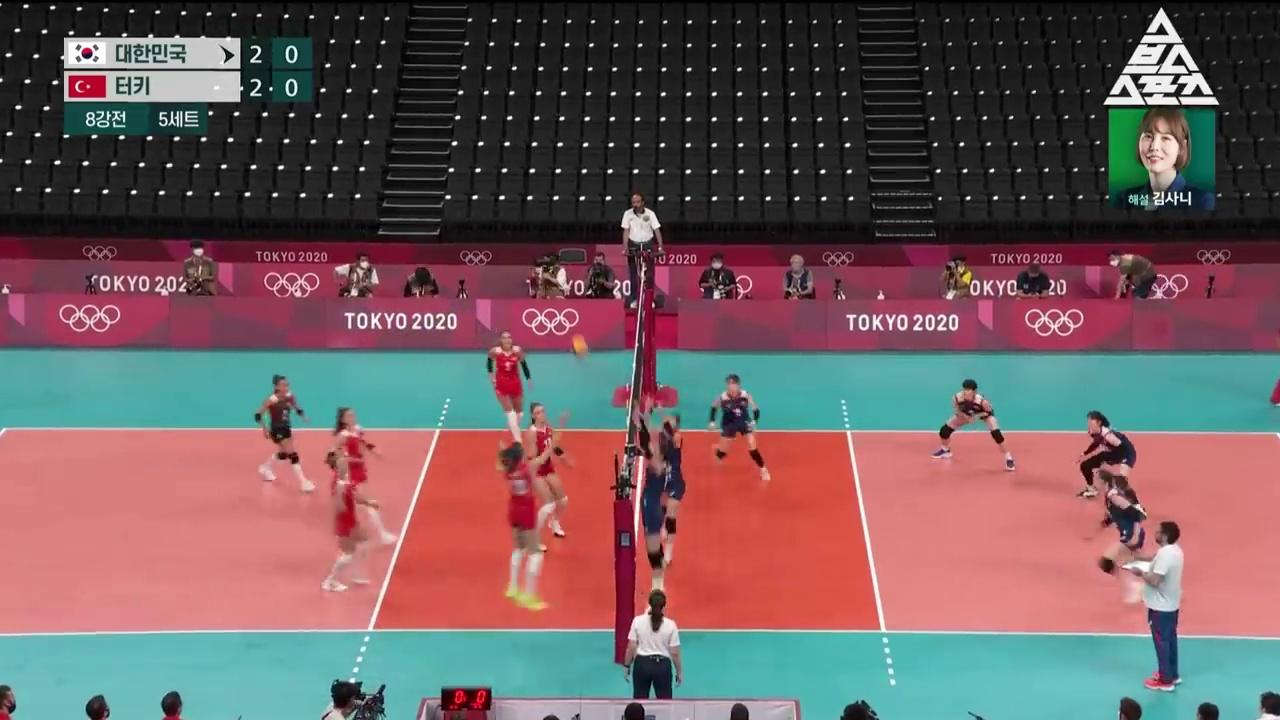ball: (573, 338, 588, 357)
player: (1083, 471, 1185, 604), (496, 431, 559, 610), (333, 408, 399, 544), (633, 402, 675, 613), (321, 452, 380, 591), (641, 392, 686, 568), (1074, 411, 1148, 517), (932, 379, 1016, 471), (256, 375, 316, 491), (528, 402, 574, 550), (709, 374, 771, 481), (487, 330, 534, 451)
referee: (625, 588, 682, 699), (621, 194, 665, 308)
